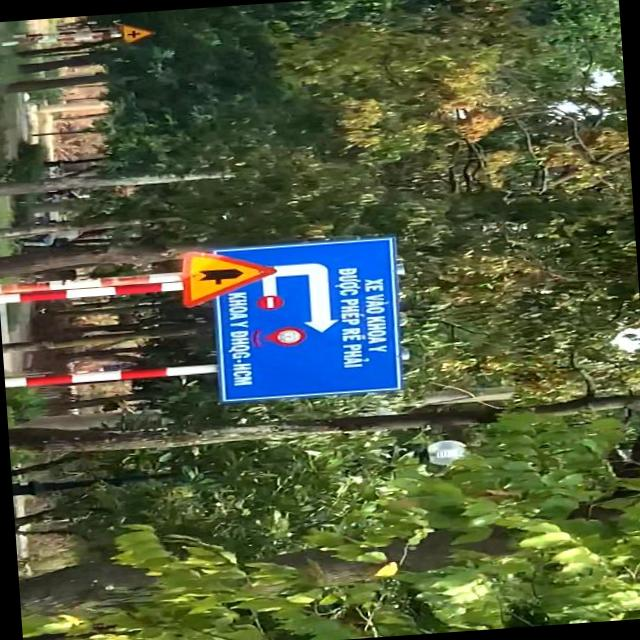W-205a: (121, 18, 157, 46)
W-207b: (178, 243, 280, 309)
